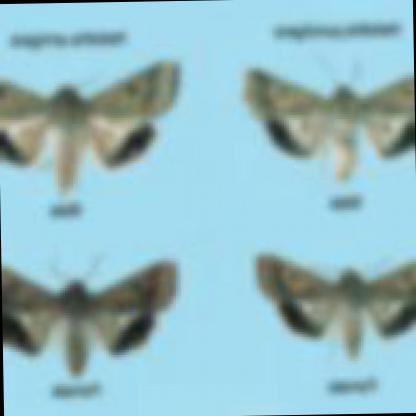helicoverpa: (0, 62, 174, 198), (240, 68, 415, 181), (259, 257, 416, 362)
